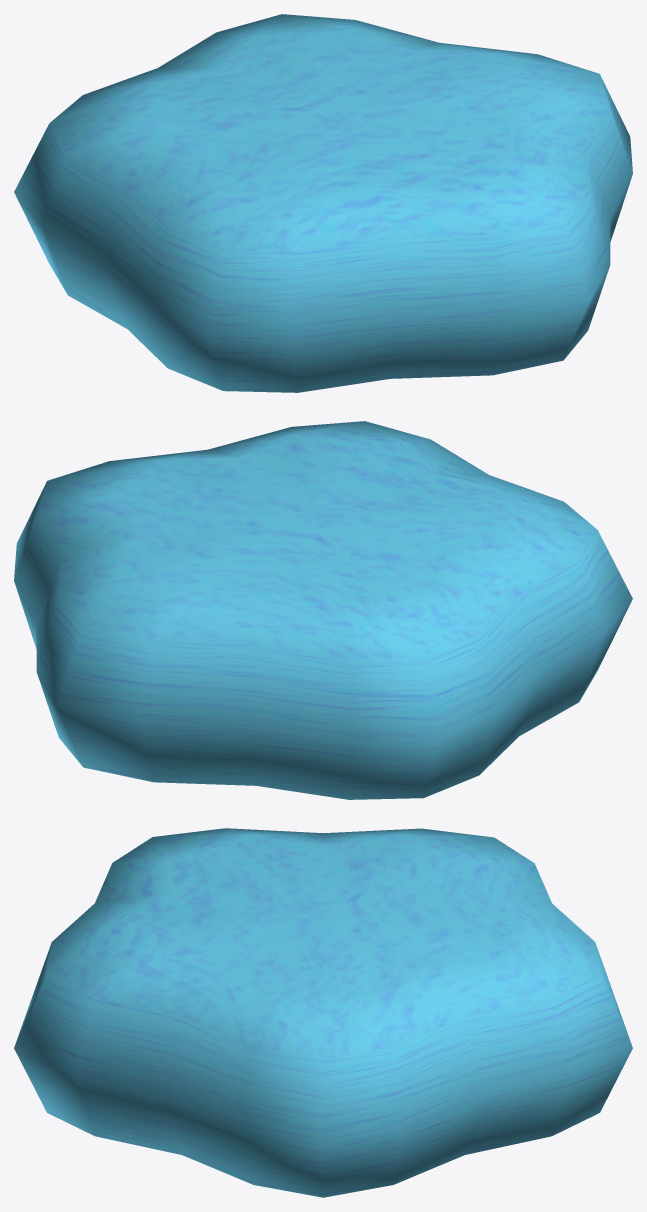
Rendered from Cereal_Star_Blue.fbx.
The picture shows the model from 3 angles, top to bottom: view 1: azimuth 30°, elevation 25°; view 2: azimuth 150°, elevation 25°; view 3: azimuth 270°, elevation 25°; orthographic projection.
Parts seen in each view (by area): view 1: pCylinder3; view 2: pCylinder3; view 3: pCylinder3.
Boxes of the visible parts, x1,y1,x2,y2 form: pCylinder3: (14,14,632,392); pCylinder3: (14,421,632,799); pCylinder3: (14,828,632,1197).
Bounding box in the file's own units: 1.66 × 0.5592 × 1.7.
